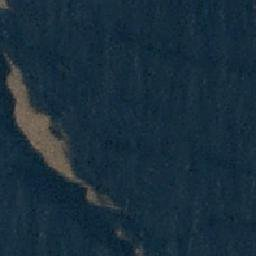debris: (4, 55, 22, 93), (18, 124, 58, 139), (15, 110, 53, 124), (31, 139, 69, 152), (84, 189, 110, 205), (15, 86, 29, 110), (42, 152, 70, 163), (52, 164, 73, 173), (114, 227, 126, 239), (79, 180, 91, 188), (62, 173, 79, 178), (108, 204, 125, 209)
